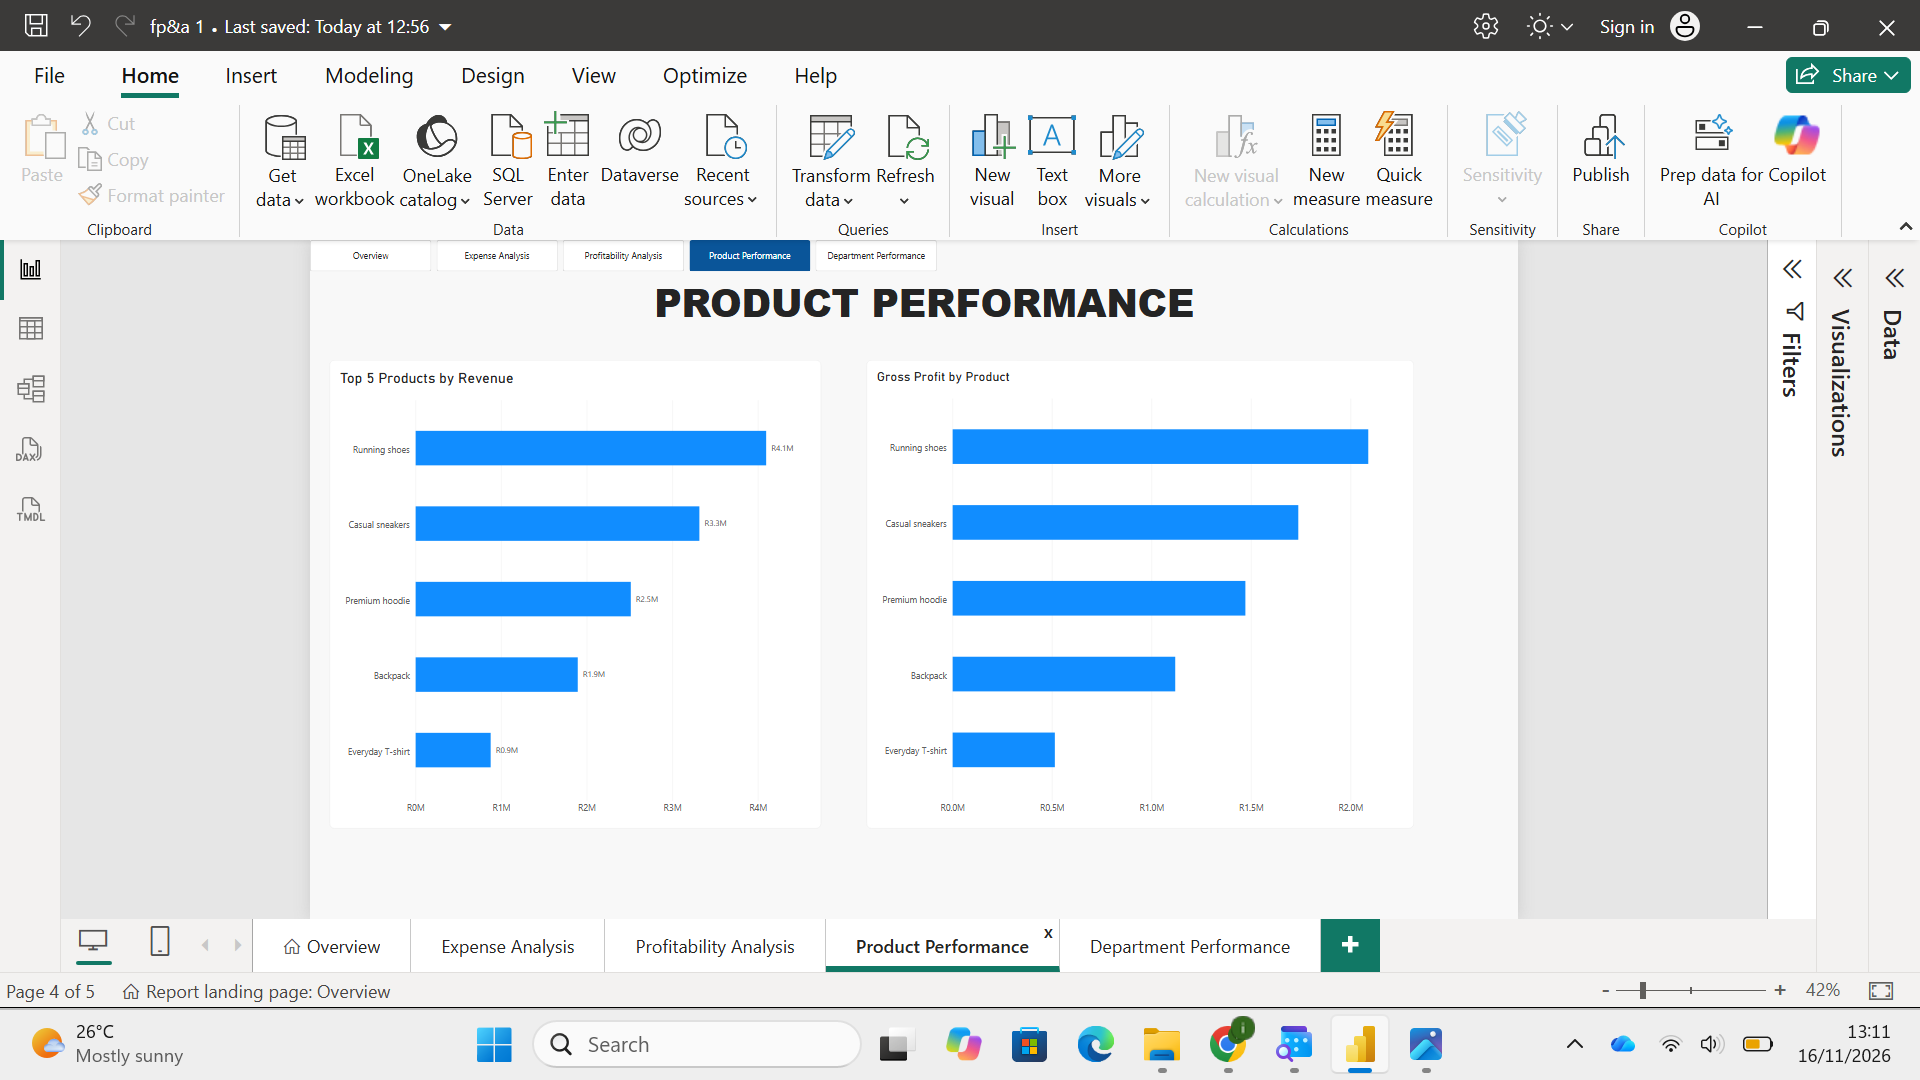

The page's visual inventory and layout, read from the dashboard file:
{"tool":"powerbi","page":{"name":"Product Performance","canvas":[1920,1080],"ordinal":3},"visuals":[{"type":"clusteredBarChart","title":"Top 5 Products by Revenue","fields":{"Category":["Top 5 Products.product_name"],"Y":["Sum(Top 5 Products.total_revenue_zar)"]},"box":[31.8,190.9,781.8,745.5],"z":0},{"type":"clusteredBarChart","title":"Gross Profit by Product","fields":{"Category":["Top 5 Products.product_name"],"Y":["Sum(Top 5 Products.gross_profit_zar)"]},"box":[884.1,190.9,870.5,745.5],"z":1},{"type":"textbox","title":"PRODUCT PERFORMANCE","box":[279.5,56.8,1395.5,181.8],"z":2},{"type":"pageNavigator","box":[0,0,1000,50],"z":3}]}

Visuals, with their boxes on the page's 1920x1080 design canvas (x1, y1, x2, y2). These are canvas units, not pixel positions in the 1920x1080 screenshot, which may show the page scaled, cropped or inside an application window:
"Top 5 Products by Revenue" clusteredBarChart: locate(32, 191, 814, 936)
"Gross Profit by Product" clusteredBarChart: locate(884, 191, 1755, 936)
"PRODUCT PERFORMANCE" textbox: locate(280, 57, 1675, 239)
pageNavigator: locate(0, 0, 1000, 50)
